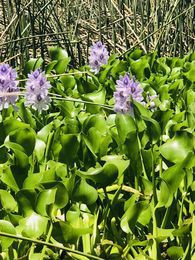water_hyacinth: (0, 49, 194, 259)
